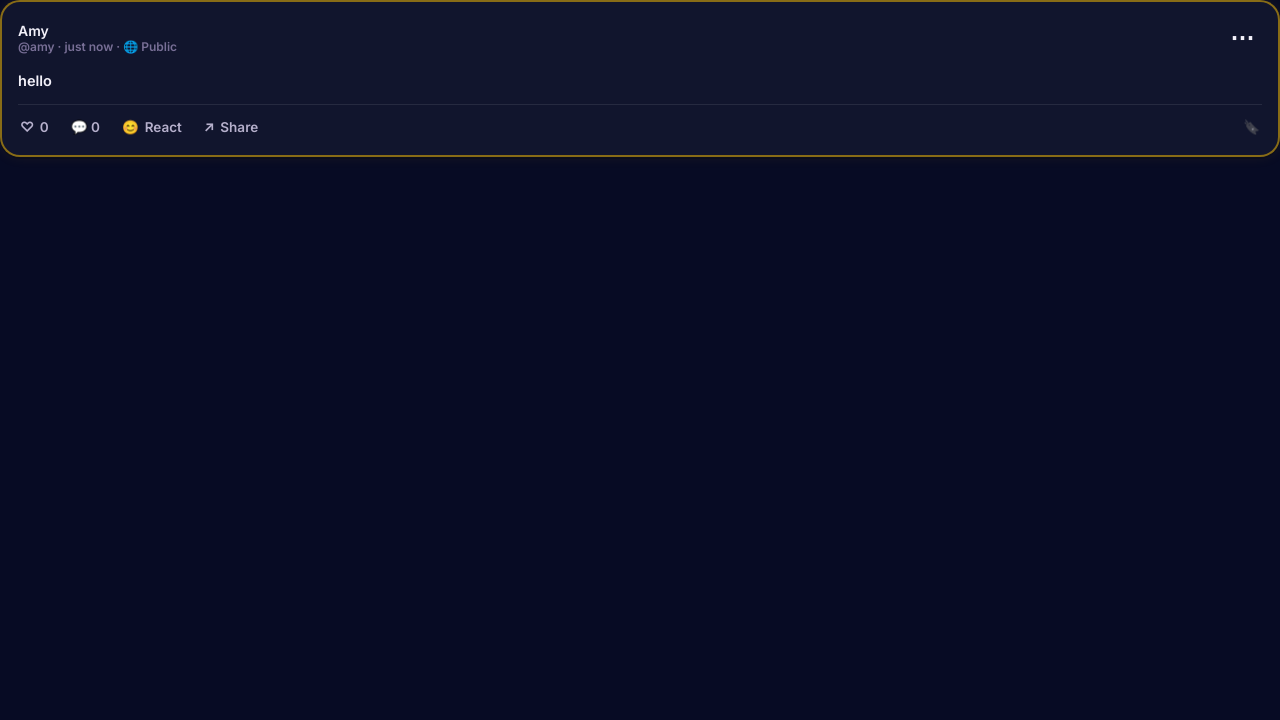
Scenario: post delete › someone else's post offers Report, never Delete or Edit
This screenshot has width=1280, height=720.
Click the button named "More options" at (1242, 38), box [1222,18,1262,58]
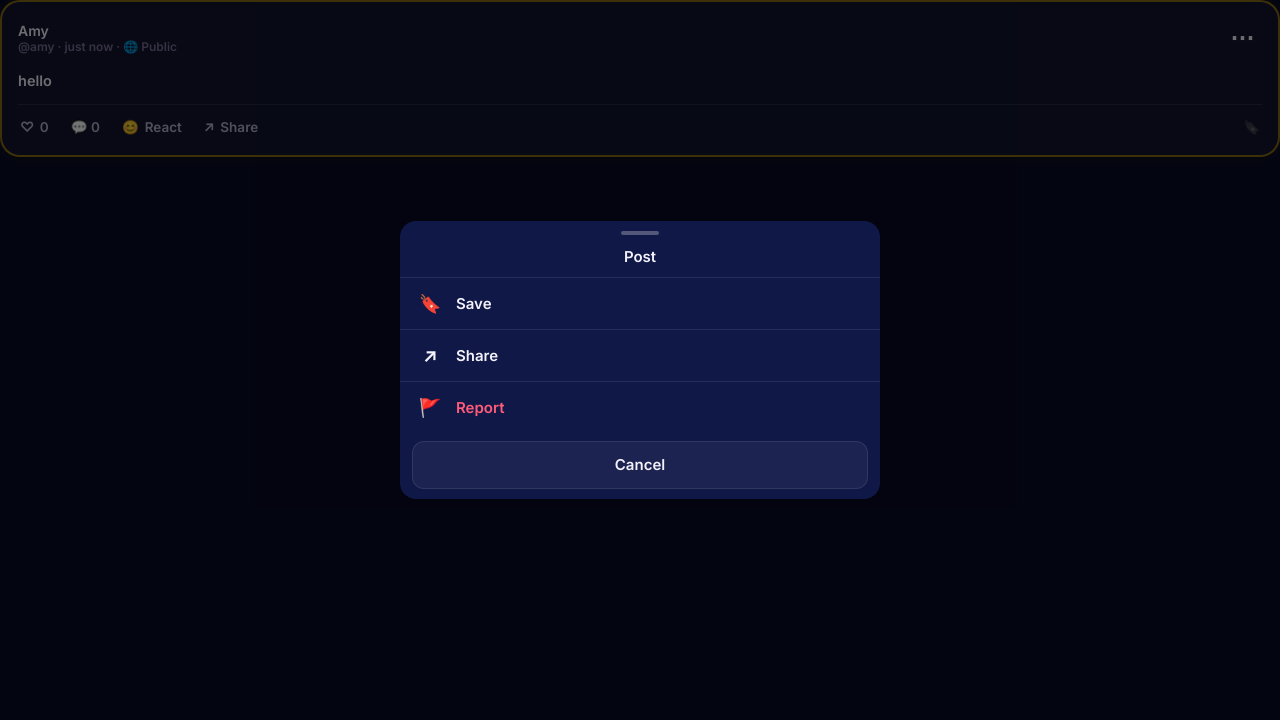
Check: the menu item "🚩 Report" is shown, box [400,381,880,433]
